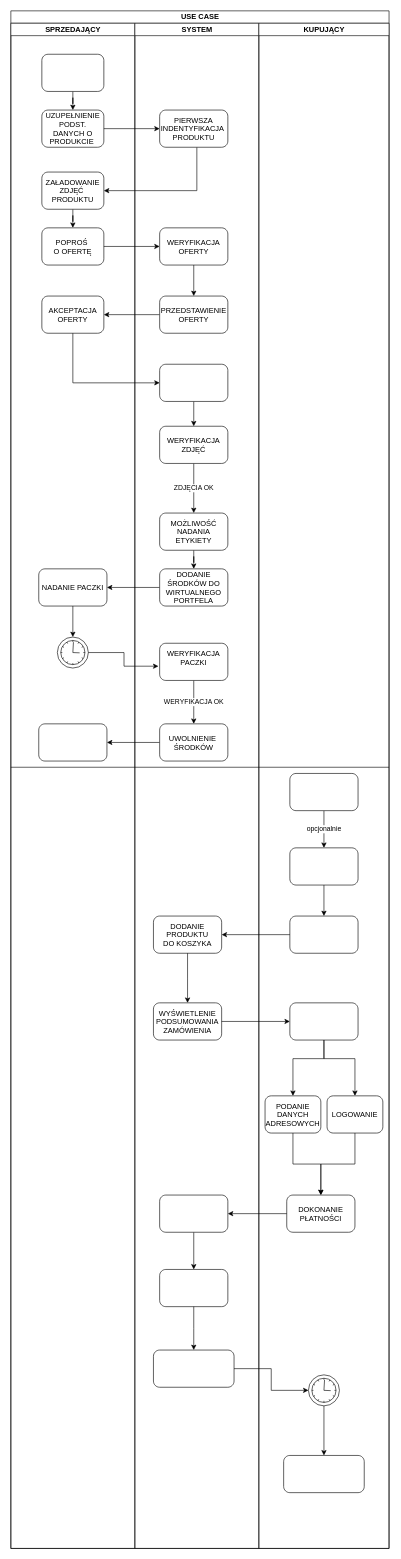
Image size: 401x1559. Some labels were removed from this diagram. The shapes that lost their labels are listed below. From the top down, each one's centre as x and y in pixels, then its label:
pixel 72 72: KLIKNIĘCIE SPRZEDAJ
pixel 193 382: ZMIANA STATUSU OFERTY : W AKCEPTACJI
pixel 72 742: OTRZYMANIE ŚRODKÓW
pixel 323 792: WYSZUKANIE BOXU
pixel 323 866: ODSŁONIĘCIE JEDNEGO PRODUKTU
pixel 323 934: KLIKNIĘCIE KUP
pixel 323 1021: WYBÓR SPOSOBU DOSTAWY I PŁATNOŚCI
pixel 193 1213: ODSŁONIĘCIE ZAWARTOŚCI BOXU
pixel 193 1288: DODANIE ZAMÓWIENIA DO BAZY
pixel 193 1368: WYGENEROWANIE ETYKIETY I NADANIE PACZKI
pixel 323 1474: OTRZYMANIE PACZKI
